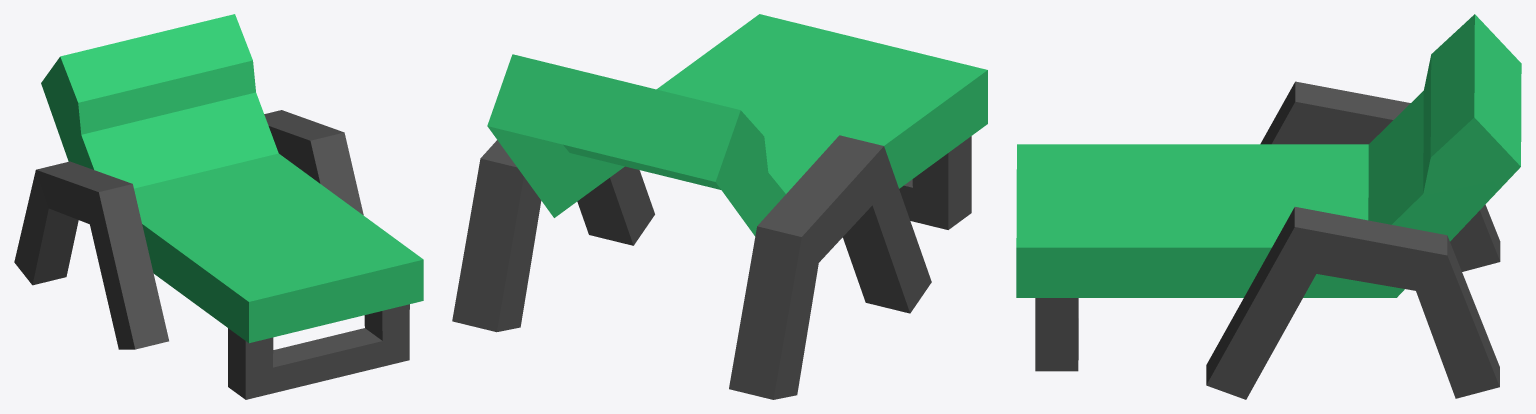
The model's file is lounge01_s01.FBX.
3 views of the same model, side by side, from view 1: azimuth 30°, elevation 25°; view 2: azimuth 150°, elevation 25°; view 3: azimuth 270°, elevation 25° (orthographic). The views are drawn at different scales.
Visible parts, largest first — view 1: lounge01_s01; view 2: lounge01_s01; view 3: lounge01_s01.
Boxes of the visible parts, left/top/right/bottom form: lounge01_s01: left=14, top=14, right=423, bottom=399; lounge01_s01: left=452, top=14, right=987, bottom=399; lounge01_s01: left=1016, top=14, right=1521, bottom=399.
Bounding box in the file's own units: 114 × 167 × 95.27.
1 material, 1 textured.
